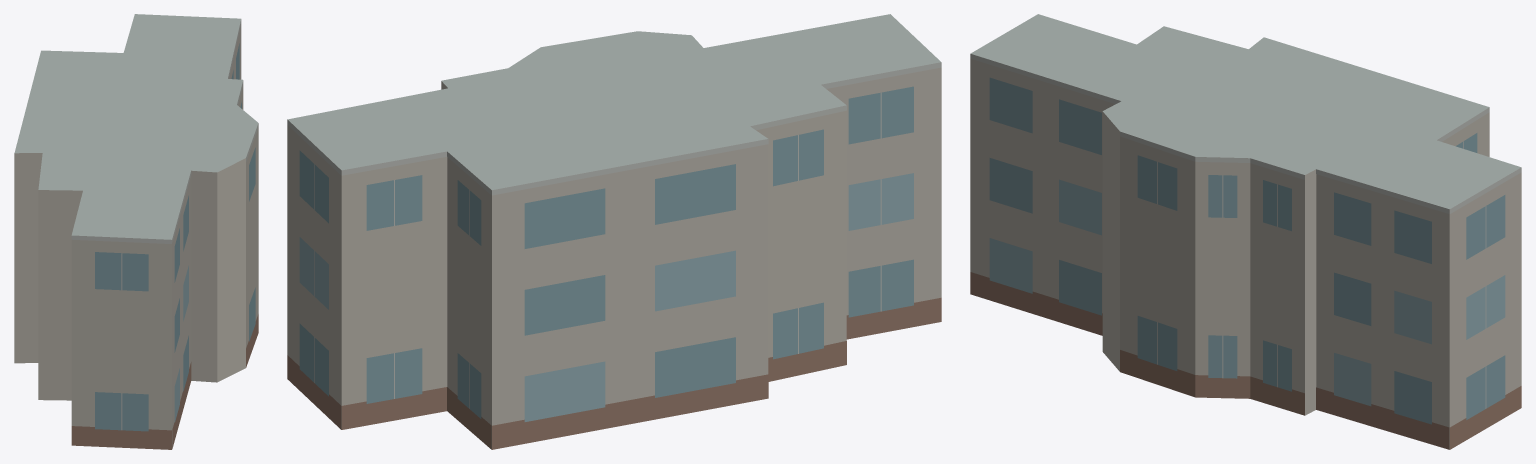
The model's file is survey-upis-32497895.glb.
The picture shows the model from 3 angles, left to right: view 1: azimuth 30°, elevation 25°; view 2: azimuth 150°, elevation 25°; view 3: azimuth 270°, elevation 25°; orthographic projection. The views are drawn at different scales.
Parts seen in each view (by area): view 1: survey-upis-32497895.tmp; view 2: survey-upis-32497895.tmp; view 3: survey-upis-32497895.tmp.
Part boxes in pixels (x1,y1,x2,y2): survey-upis-32497895.tmp: (14, 14, 258, 449); survey-upis-32497895.tmp: (287, 14, 941, 449); survey-upis-32497895.tmp: (970, 14, 1521, 449).
Size of the model in its own units: 20.73 by 11.9 by 24.72.
